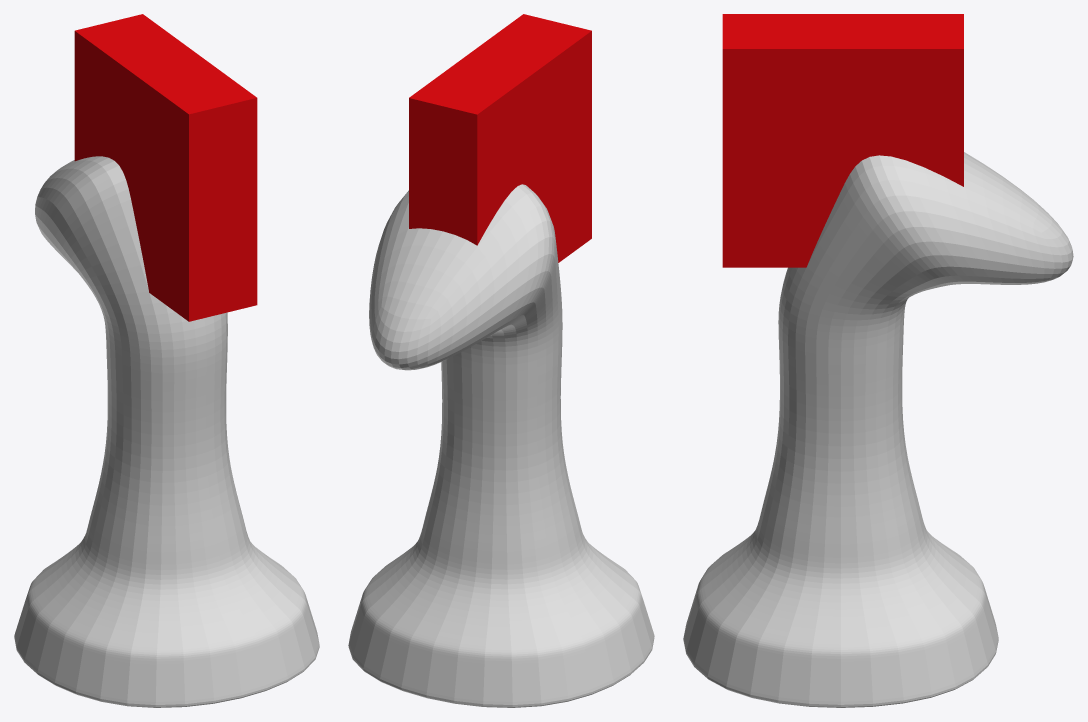
Rendered from Chess_Knight.fbx.
3 views of the same model, side by side, from view 1: azimuth 30°, elevation 25°; view 2: azimuth 150°, elevation 25°; view 3: azimuth 270°, elevation 25° (orthographic). The views are drawn at different scales.
Parts seen in each view (by area): view 1: Cube; view 2: Cube; view 3: Cube.
Boxes of the visible parts, x1,y1,x2,y2 form: Cube: (14, 14, 319, 707); Cube: (348, 14, 654, 707); Cube: (683, 14, 1073, 707).
Size of the model in its own units: 89.27 by 191 by 110.
